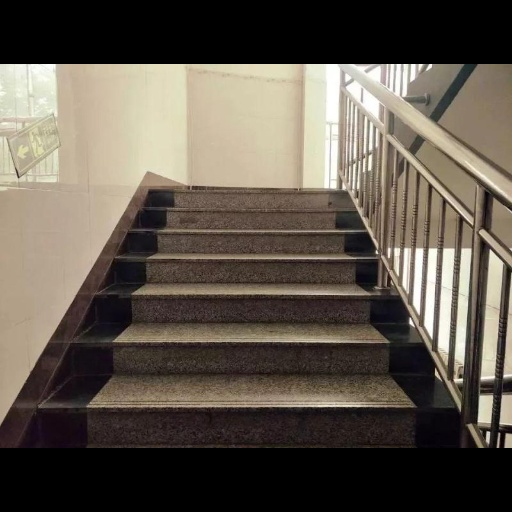Stairs: (0, 187, 461, 448)
